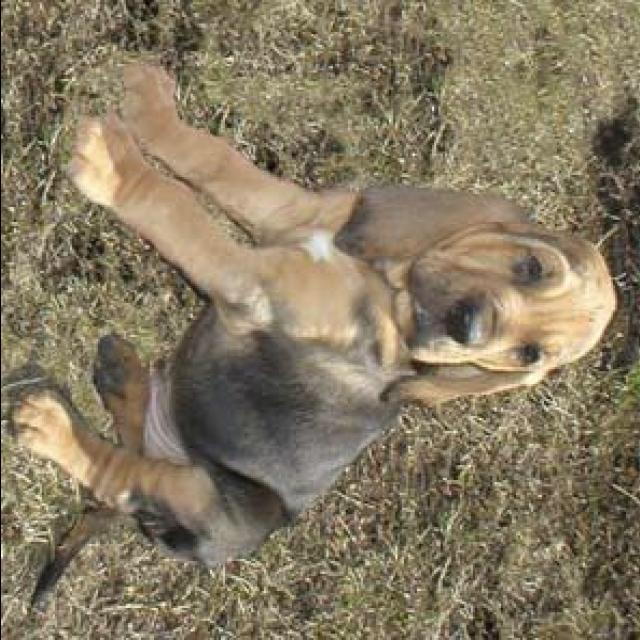bloodhound: (11, 59, 620, 634)
